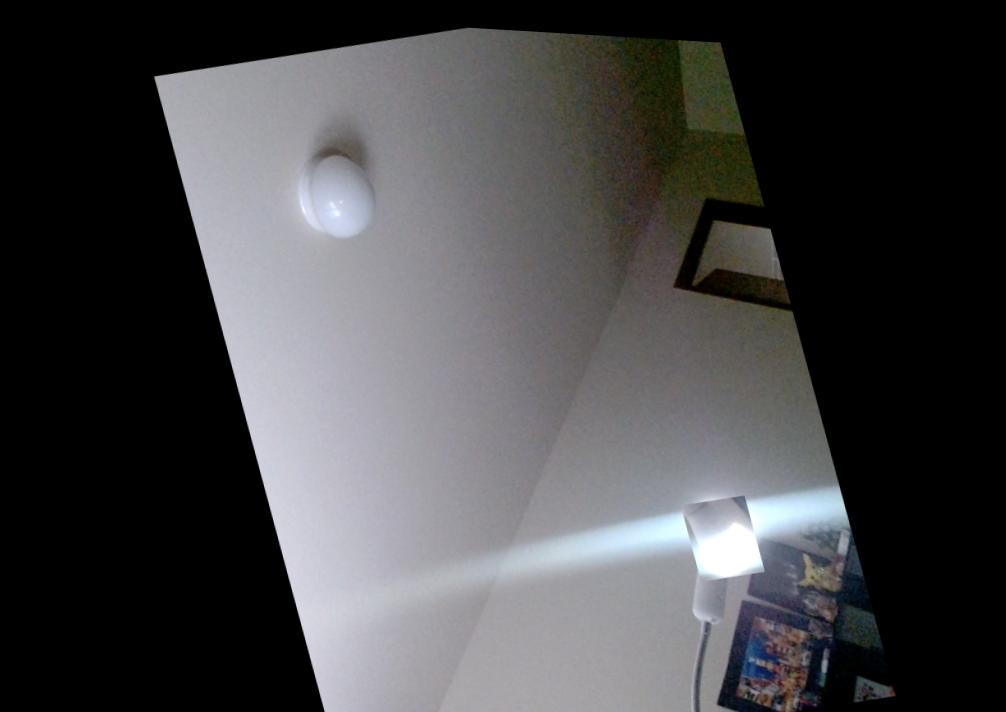TubeLight: (674, 482, 759, 575)
